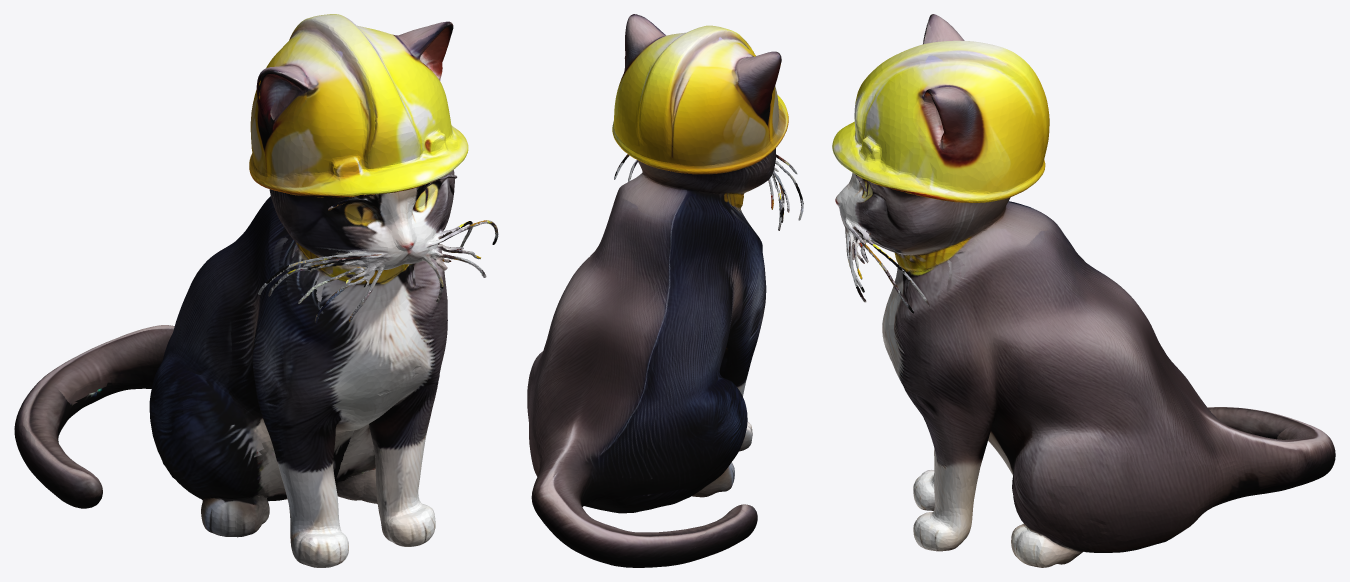
File: cat_hunyuan3d-2.0.glb
3 renders of one model, left to right at view 1: azimuth 30°, elevation 25°; view 2: azimuth 150°, elevation 25°; view 3: azimuth 270°, elevation 25°, orthographic. The views are drawn at different scales.
Visible parts, largest first — view 1: temp_mesh.ply; view 2: temp_mesh.ply; view 3: temp_mesh.ply.
Boxes of the visible parts, box(x1,y1,x2,y2) form: temp_mesh.ply: box(14, 14, 498, 567); temp_mesh.ply: box(527, 14, 803, 567); temp_mesh.ply: box(832, 14, 1335, 567).
Bounding box in the file's own units: 1.25 × 1.98 × 1.89.
1 material, 1 textured.
